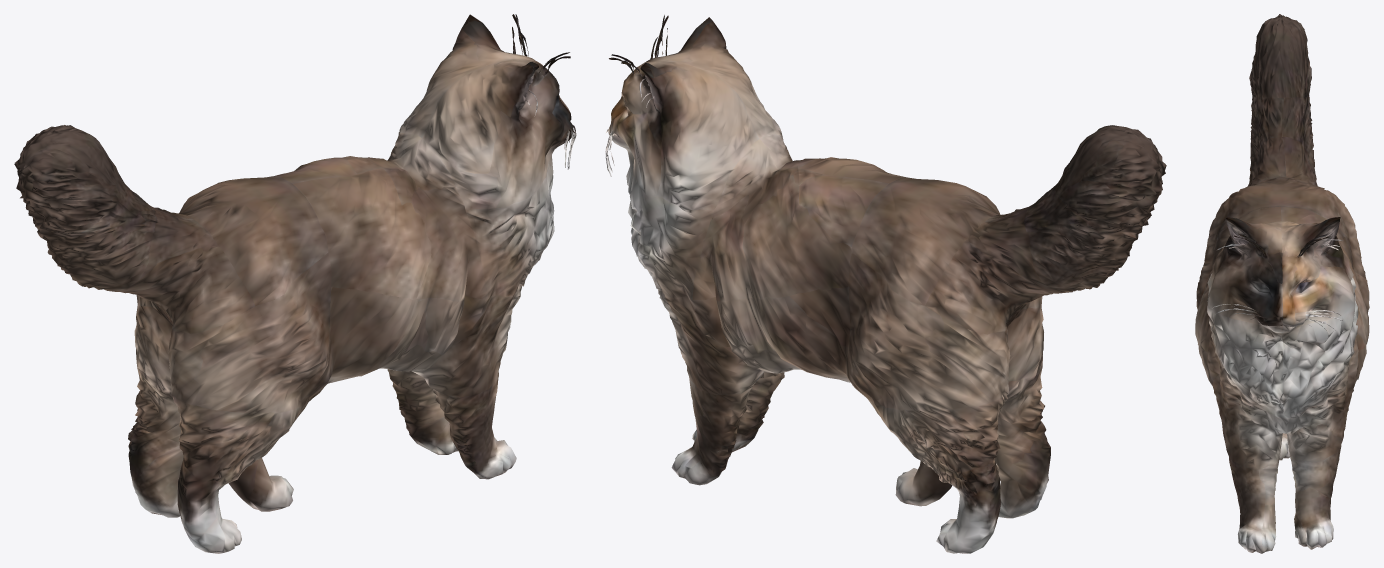
Rendered from MIETTE.glb.
3 renders of one model, left to right at view 1: azimuth 30°, elevation 25°; view 2: azimuth 150°, elevation 25°; view 3: azimuth 270°, elevation 25°, orthographic. The views are drawn at different scales.
Parts seen in each view (by area): view 1: tripo_node_b8bad170-56f4-4f9c-9e85-9ff96e9fed59; view 2: tripo_node_b8bad170-56f4-4f9c-9e85-9ff96e9fed59; view 3: tripo_node_b8bad170-56f4-4f9c-9e85-9ff96e9fed59.
Boxes of the visible parts, box(x1,y1,x2,y2) form: tripo_node_b8bad170-56f4-4f9c-9e85-9ff96e9fed59: box(14, 14, 576, 553); tripo_node_b8bad170-56f4-4f9c-9e85-9ff96e9fed59: box(605, 15, 1166, 553); tripo_node_b8bad170-56f4-4f9c-9e85-9ff96e9fed59: box(1195, 14, 1369, 553).
Bounding box in the file's own units: 1.33 × 0.9977 × 0.4379.
Materials: 1 (1 with a texture image).
